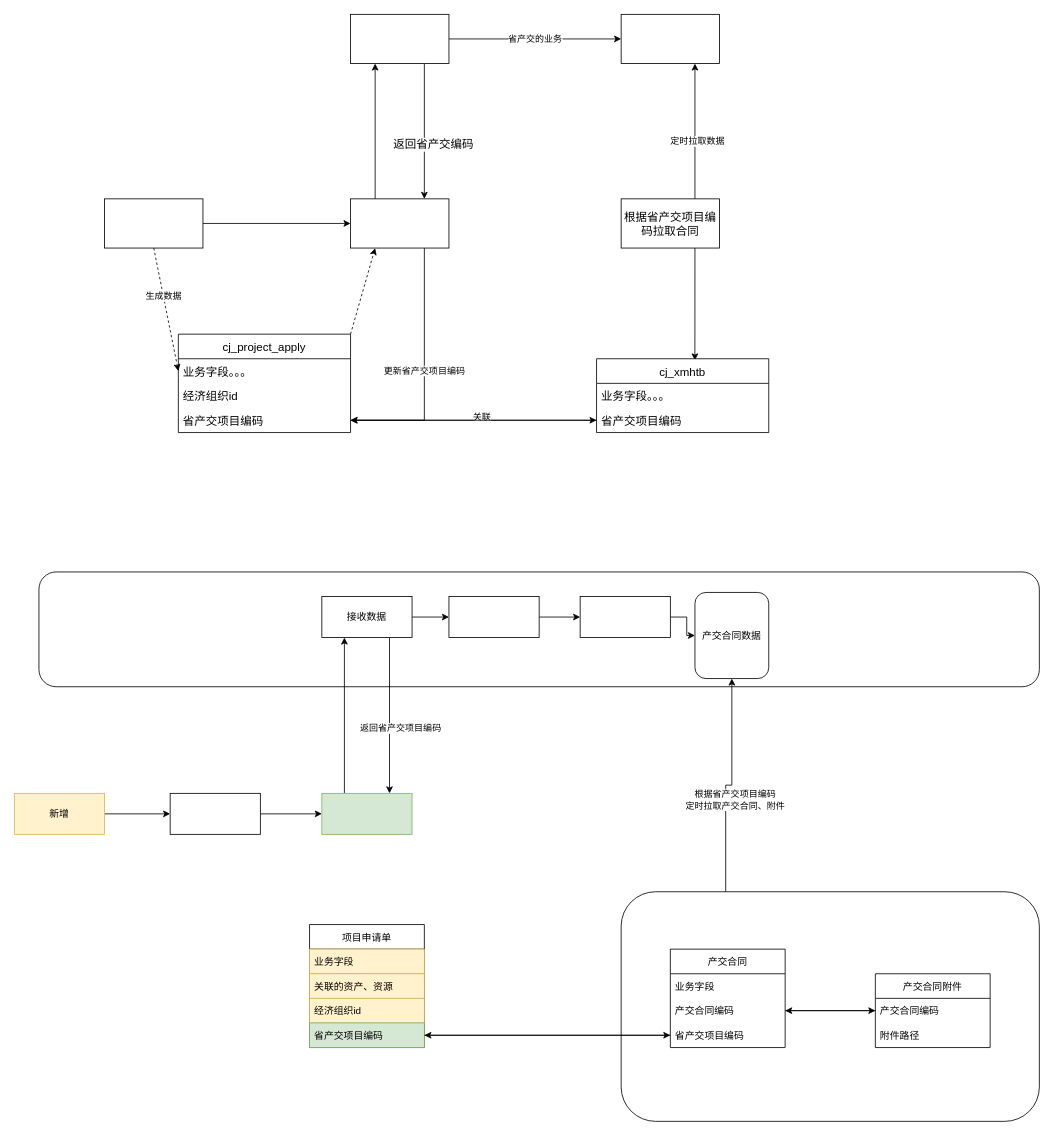
Some shapes in this 1054 by 1136 pixel diagram are drawn without their labels. The centre of each missing label's shape, as x and y in pixels:
"事前审批" goes at (153,223).
"增删改产交合同" goes at (624,617).
"审批" goes at (214,813).
"提交省产交" goes at (366,813).
"提交给省产交" goes at (399,223).
"省产交业务流程。。。" goes at (493,617).
"省产交合同" goes at (670,39).
